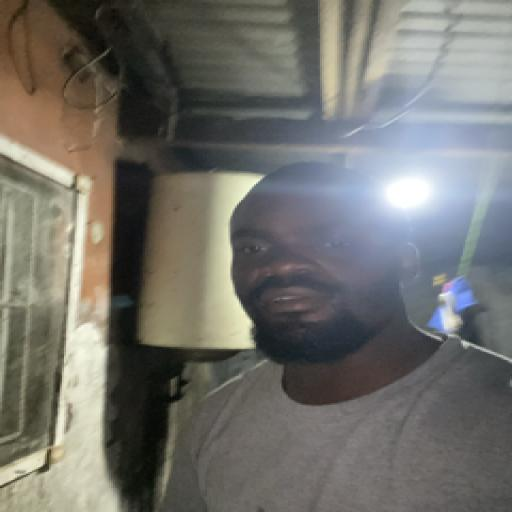JEANLUC: (200, 161, 412, 377)
